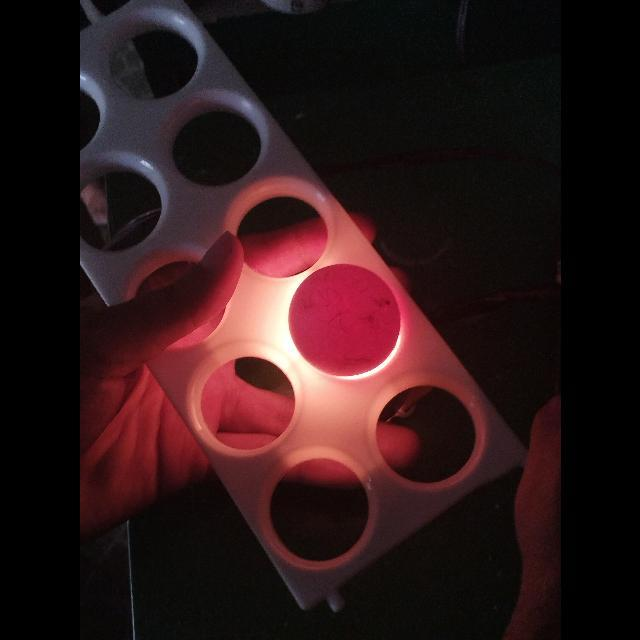Fertile: (291, 262, 399, 374)
